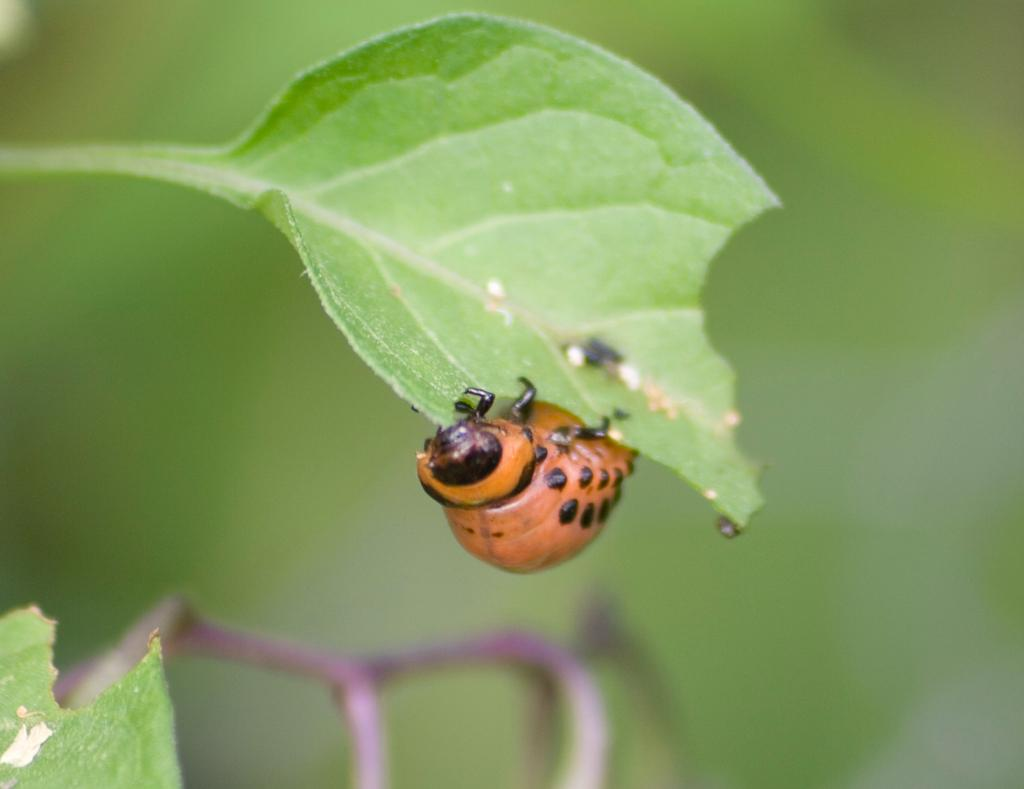potato_beetle: (363, 338, 685, 603)
